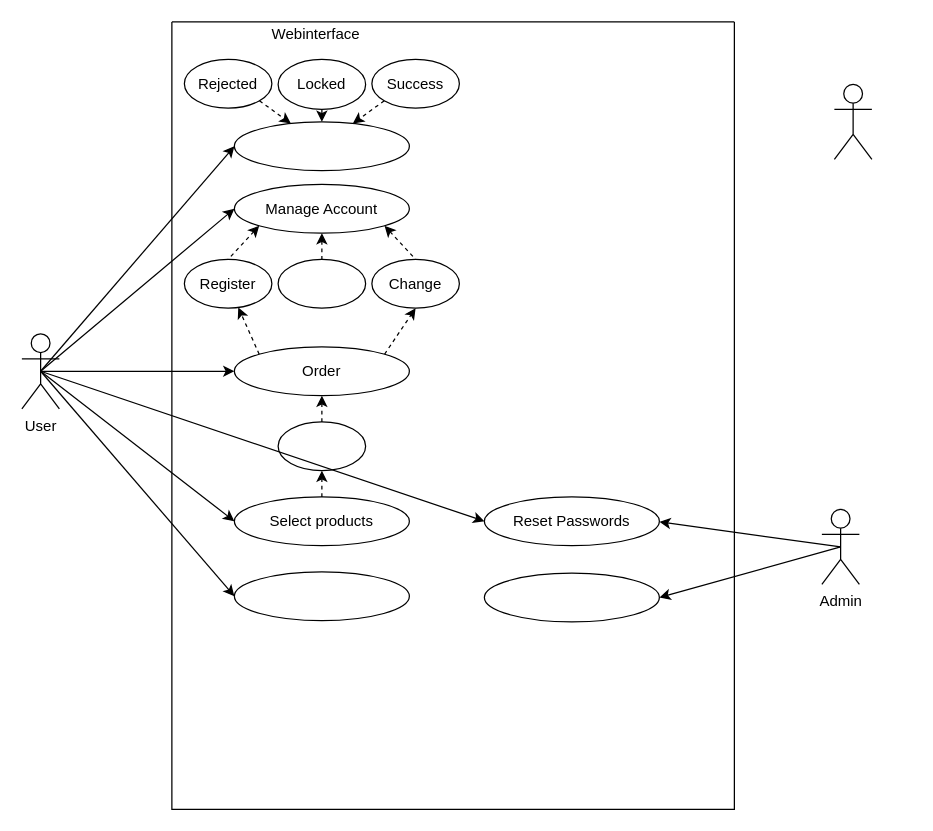
Image size: 933x831. Some labels were removed from this diagram. Here are the shapes that lost their labels. From the top down, the centre of each, then its label:
At point (852, 121): "Product Manager".
At point (321, 146): "Login".
At point (321, 283): "Delete".
At point (321, 446): "Offer".
At point (321, 596): "See Products".
At point (571, 597): "Manage User Rolls".
